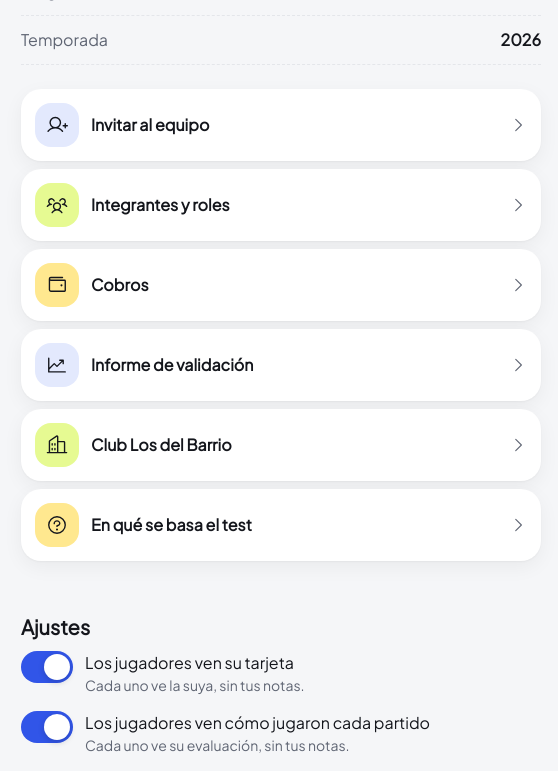
Test: TeamPage › y si ven cómo jugaron cada partido (D18)
The image size is (558, 771).
(page scrolled)
Click the switch labelled "ven cómo jugaron cada partido": (47, 727) left=21, top=711, right=73, bottom=743
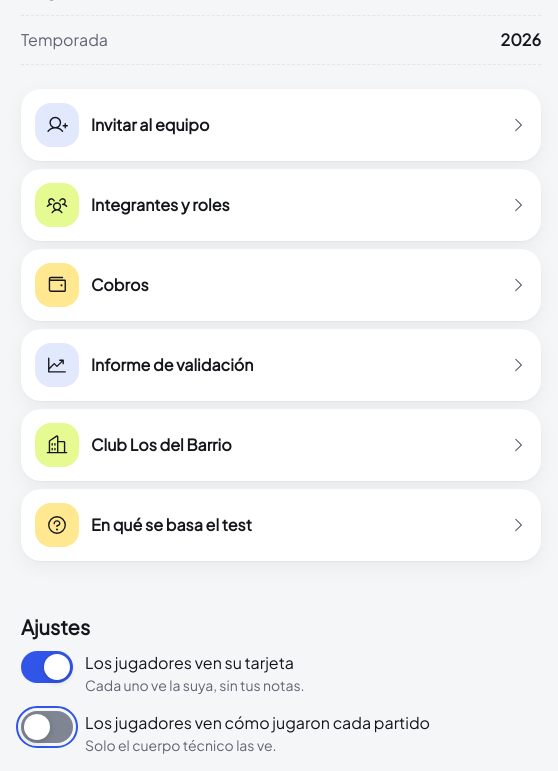
Expected: the switch labelled "ven su tarjeta" is checked, left=21, top=651, right=73, bottom=683
Now the switch labelled "ven cómo jugaron cada partido" is not checked, box left=21, top=711, right=73, bottom=743
Now the text "Solo el cuerpo técnico las ve." is shown, box left=85, top=736, right=277, bottom=754
